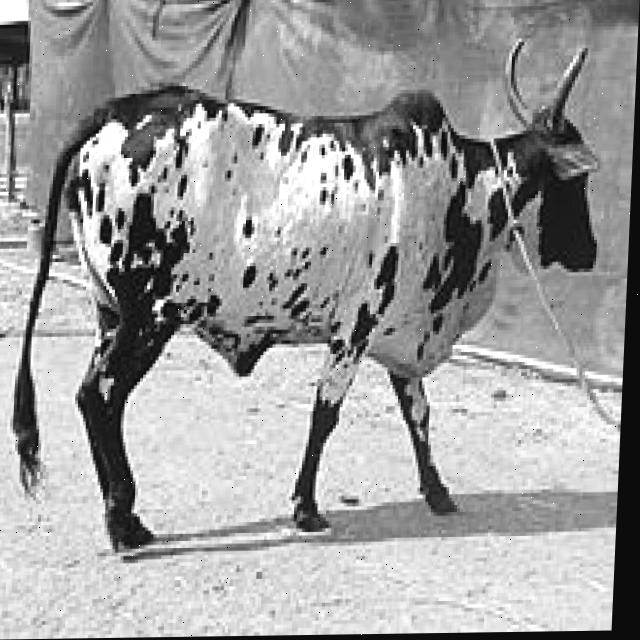Cow: (2, 33, 621, 554)
